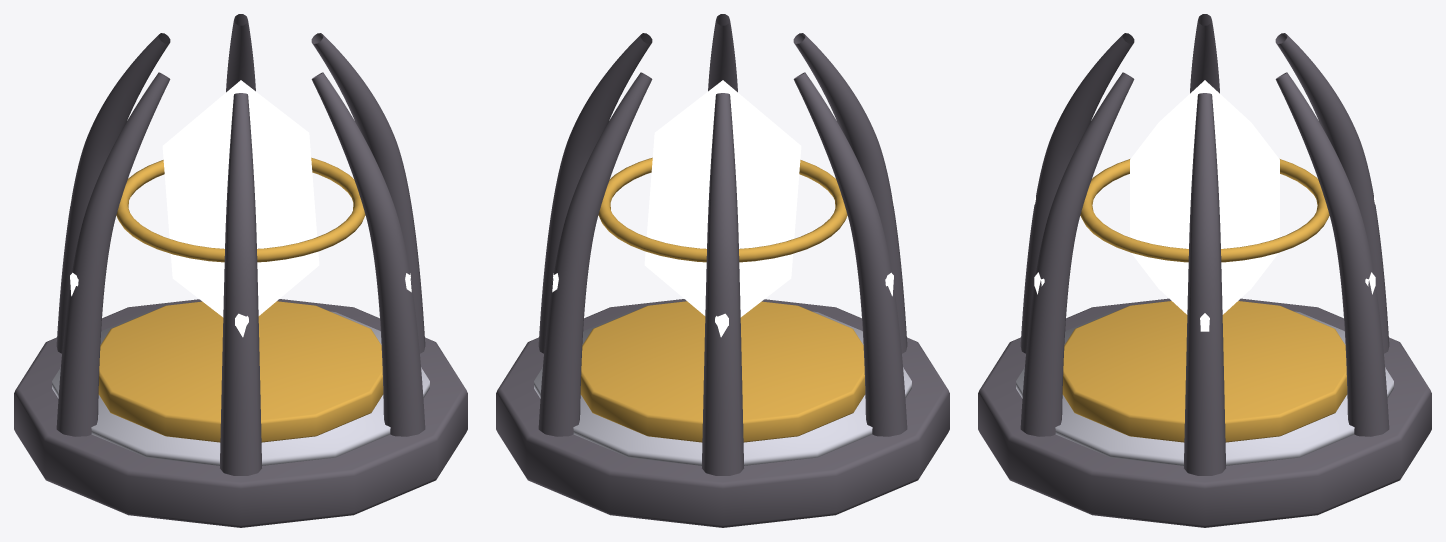
The model's file is nexus.glb.
3 views of the same model, side by side, from view 1: azimuth 30°, elevation 25°; view 2: azimuth 150°, elevation 25°; view 3: azimuth 270°, elevation 25° (orthographic).
Visible parts, largest first — view 1: Nexus; view 2: Nexus; view 3: Nexus.
Part boxes in pixels (x1,y1,x2,y2): Nexus: (14,14,467,527); Nexus: (496,14,949,527); Nexus: (978,14,1431,527).
Size of the model in its own units: 7.2 by 6.66 by 7.2.
